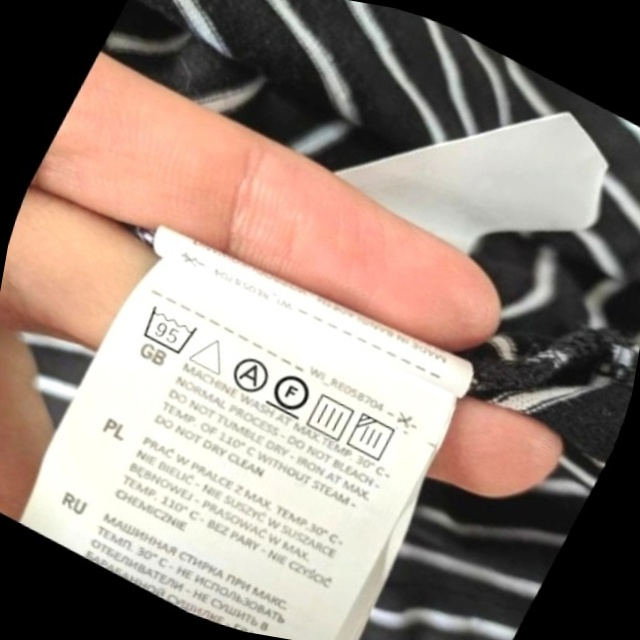95C: (132, 298, 207, 363)
bleach: (184, 324, 238, 382)
drip_dry: (300, 385, 363, 448)
drip_dry_in_shade: (340, 406, 406, 471)
dry_clean: (222, 347, 278, 401)
dry_clean_petrol_only: (262, 361, 322, 425)
